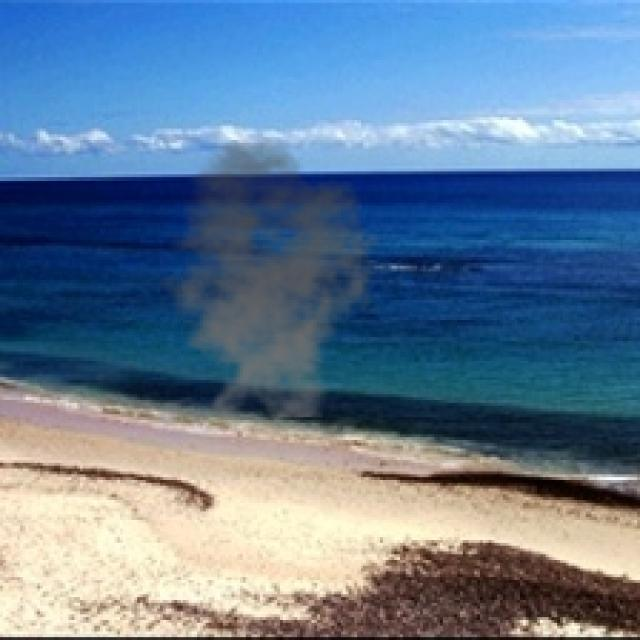Smoke: (146, 137, 383, 417)
